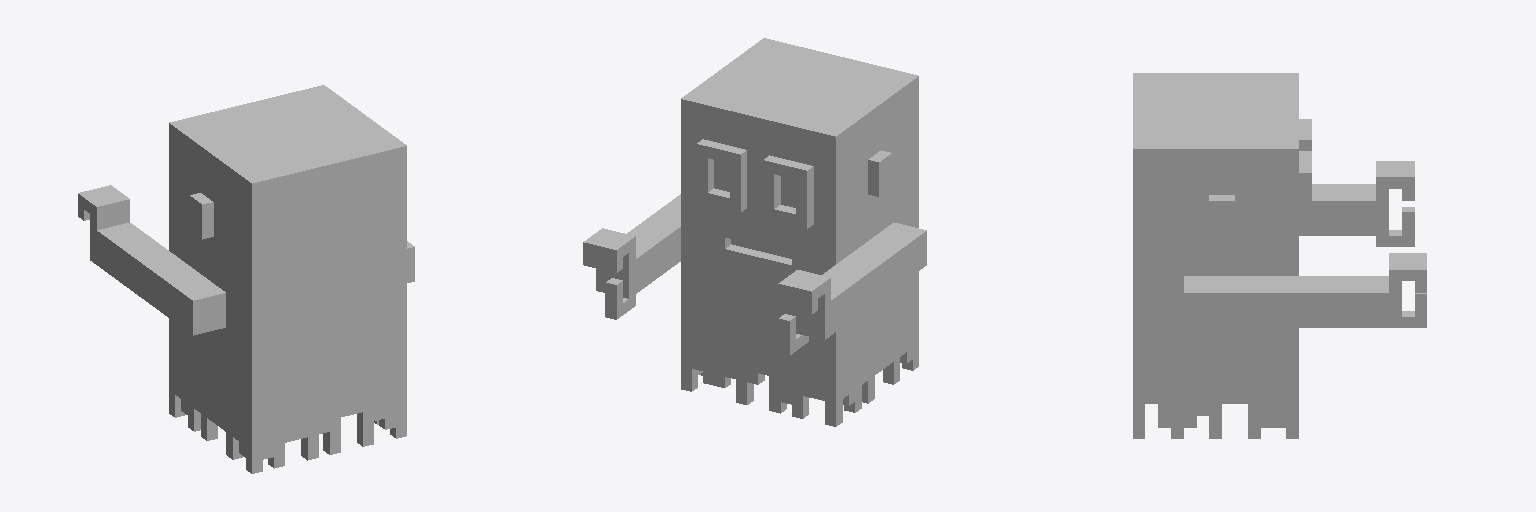
The model's file is monster.obj.
3 renders of one model, left to right at view 1: azimuth 30°, elevation 25°; view 2: azimuth 150°, elevation 25°; view 3: azimuth 270°, elevation 25°, orthographic.
Visible parts, largest first — view 1: object 1; view 2: object 1; view 3: object 1.
Part boxes in pixels (x1,y1,x2,y2): object 1: (78, 85, 414, 473); object 1: (583, 38, 926, 426); object 1: (1133, 73, 1426, 438).
Bounding box in the file's own units: 2 × 2.5 × 2.3.